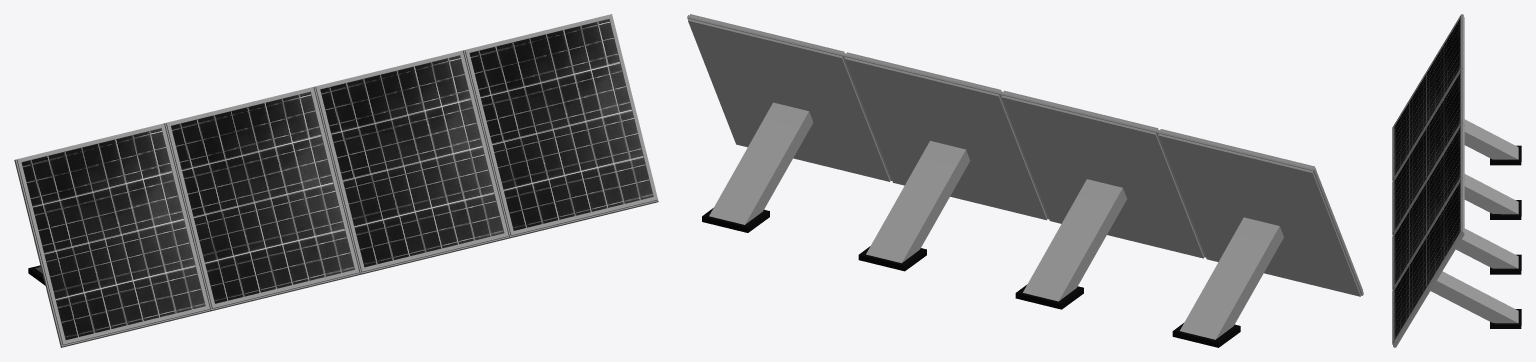
Rendered from solar2.glb.
The picture shows the model from 3 angles, left to right: view 1: azimuth 30°, elevation 25°; view 2: azimuth 150°, elevation 25°; view 3: azimuth 270°, elevation 25°; orthographic projection. The views are drawn at different scales.
Visible parts, largest first — view 1: objSolar.001, objSolar.003, objSolar.002, objSolar.004; view 2: objSolar.001, objSolar.002, objSolar.003, objSolar.004; view 3: objSolar.004, objSolar.003, objSolar.001, objSolar.002.
Part boxes in pixels (<box>): objSolar.001: <box>14,123,210,347</box>; objSolar.003: <box>313,50,509,274</box>; objSolar.002: <box>164,87,359,311</box>; objSolar.004: <box>463,14,658,238</box>; objSolar.001: <box>1158,129,1363,347</box>; objSolar.002: <box>1001,90,1205,309</box>; objSolar.003: <box>844,52,1048,271</box>; objSolar.004: <box>687,14,891,232</box>; objSolar.004: <box>1392,177,1521,347</box>; objSolar.003: <box>1392,123,1521,289</box>; objSolar.001: <box>1392,14,1521,180</box>; objSolar.002: <box>1392,68,1521,235</box>.
Size of the model in its own units: 8 by 2 by 2.
12 materials, 4 textured.
